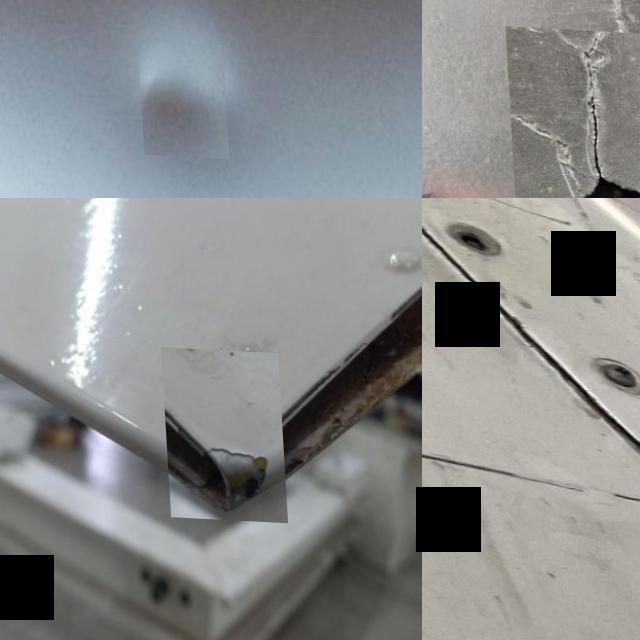Crack: (503, 24, 640, 198), (158, 345, 284, 520), (577, 429, 640, 585)
Dent: (136, 39, 221, 154)
Missing_Fastener: (452, 220, 486, 248)
